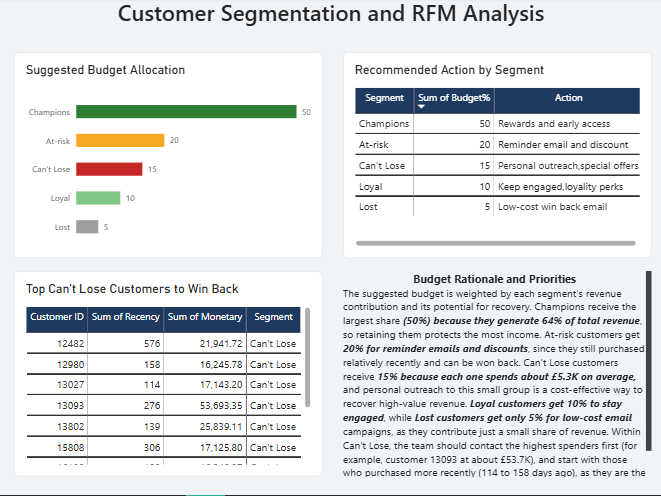

This screenshot's page, from the dashboard's own definition file:
{"tool":"powerbi","page":{"name":"Action Plan","canvas":[960,720],"ordinal":1},"visuals":[{"type":"textbox","box":[46.8,0,870.2,48.2],"z":0},{"type":"clusteredBarChart","title":"Suggested Budget Allocation","fields":{"Category":["Budget_Table.Segment"],"Y":["Sum(Budget_Table.Budget%)"]},"box":[22.7,79.4,446.5,297.6],"z":1000},{"type":"tableEx","title":"Recommended Action by Segment","fields":{"Values":["Budget_Table.Segment","Sum(Budget_Table.Budget%)","Budget_Table.Action"]},"box":[498.9,79.4,446.5,297.6],"z":2000},{"type":"tableEx","title":"Top Can''t Lose Customers to Win Back","fields":{"Values":["rfm_segments.Customer ID","Sum(rfm_segments.Recency)","Sum(rfm_segments.Monetary)","rfm_segments.Segment"]},"box":[22.7,396.9,446.5,297],"z":3000},{"type":"textbox","box":[498.9,396.9,446.5,297.6],"z":4000}]}

Visuals, with their boxes in screenshot pixels (x1, y1, x2, y2), scaled from the page's 960x720 canvas onto the 661x496 screenshot:
textbox: rect(32, 0, 631, 33)
"Suggested Budget Allocation" clusteredBarChart: rect(16, 55, 323, 260)
"Recommended Action by Segment" tableEx: rect(344, 55, 651, 260)
"Top Can''t Lose Customers to Win Back" tableEx: rect(16, 273, 323, 478)
textbox: rect(344, 273, 651, 478)
